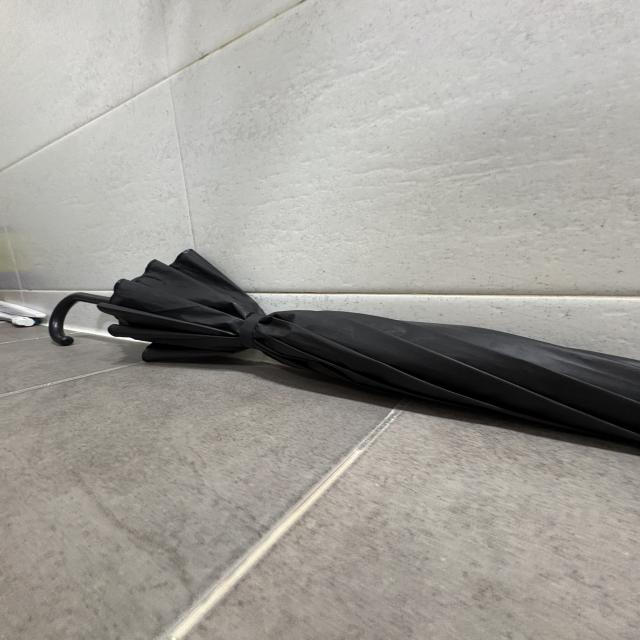umbrella: (51, 246, 640, 457)
